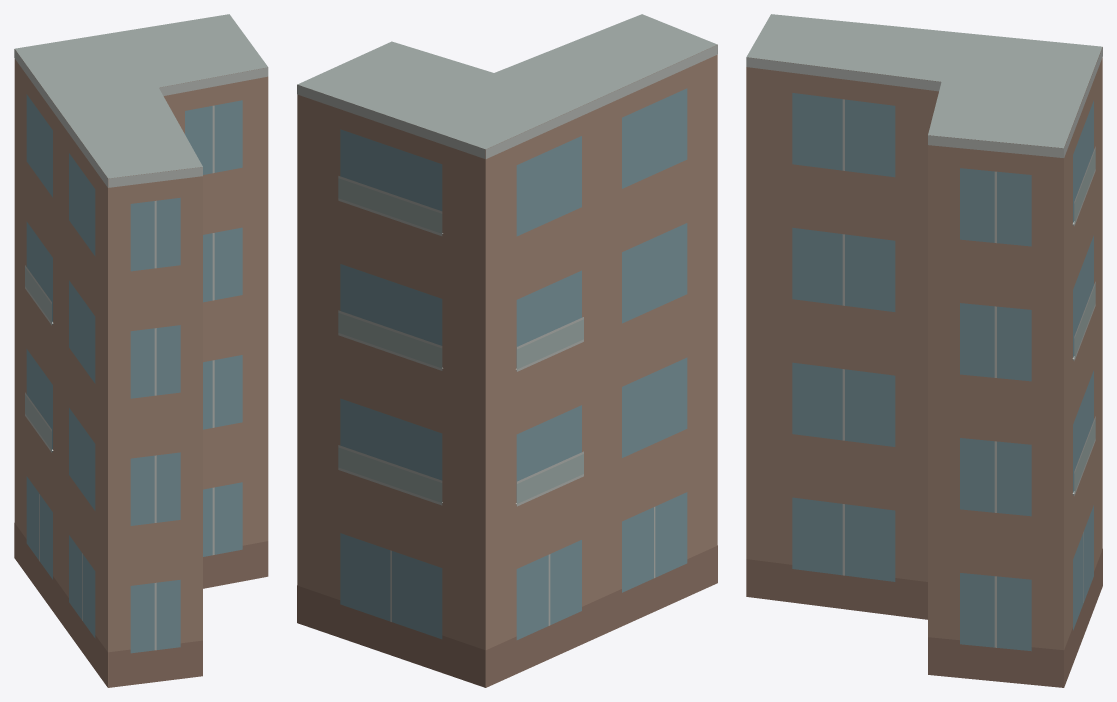
File: survey-upis-32469887.glb
The picture shows the model from 3 angles, left to right: view 1: azimuth 30°, elevation 25°; view 2: azimuth 150°, elevation 25°; view 3: azimuth 270°, elevation 25°; orthographic projection. The views are drawn at different scales.
Parts seen in each view (by area): view 1: survey-upis-32469887.tmp; view 2: survey-upis-32469887.tmp; view 3: survey-upis-32469887.tmp.
Part boxes in pixels (box(x1,y1,x2,y2)): survey-upis-32469887.tmp: box(14, 14, 268, 687); survey-upis-32469887.tmp: box(297, 14, 717, 687); survey-upis-32469887.tmp: box(746, 14, 1102, 687).
Bounding box in the file's own units: 7.08 × 13.25 × 7.94.
